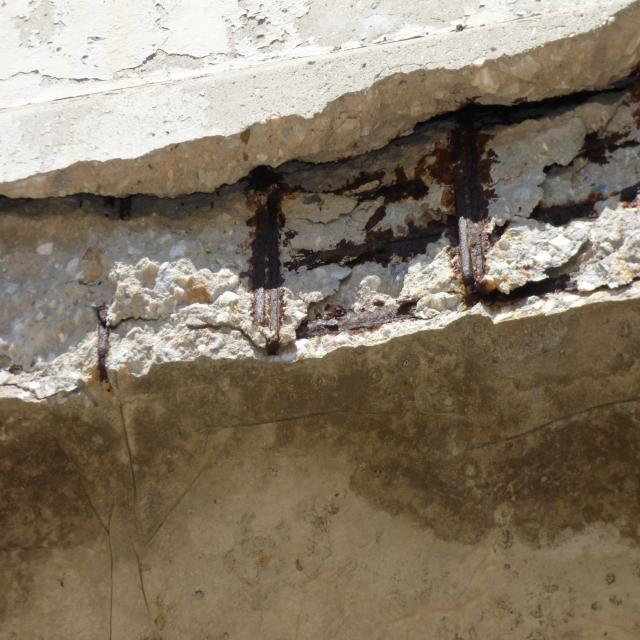corrosion: (218, 63, 640, 379), (80, 288, 148, 402), (142, 385, 152, 401)
